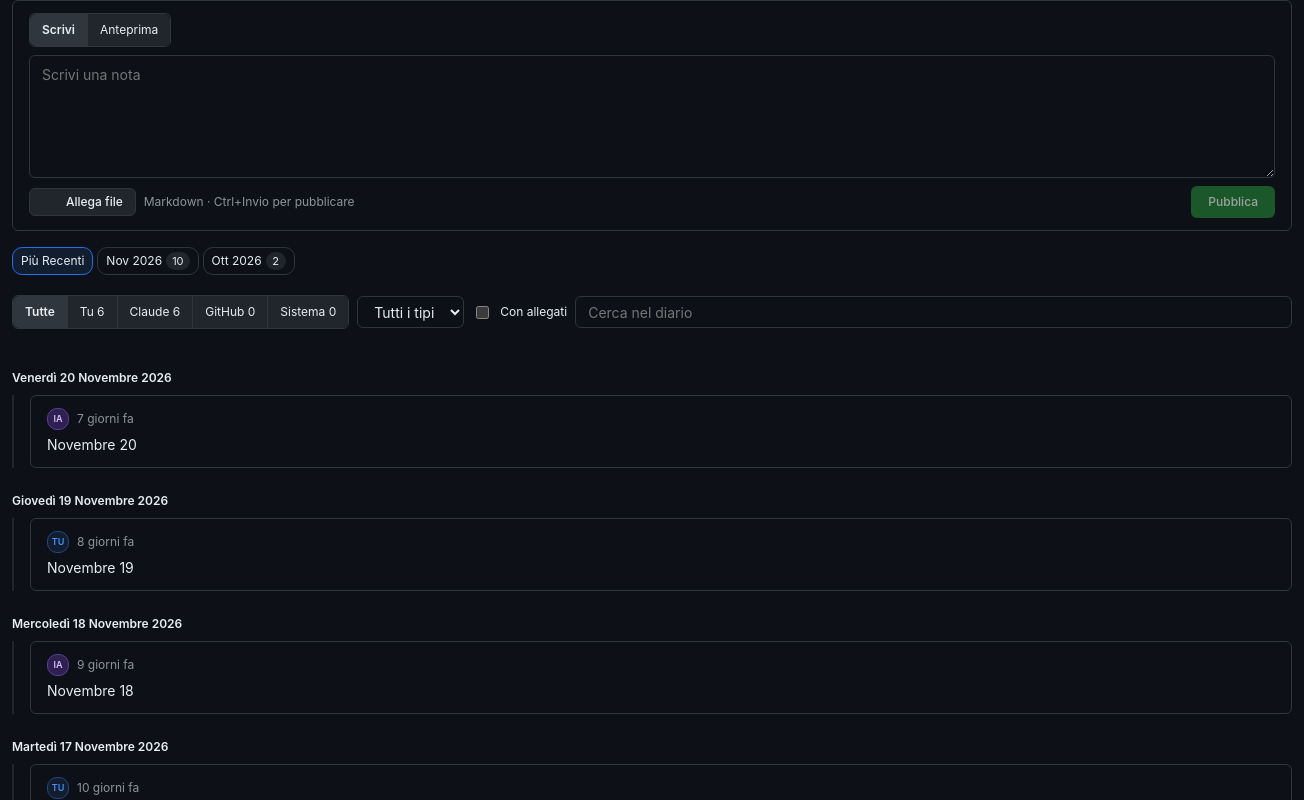
verifyC: long diary › the text search shows matches that are in days that started closed
This screenshot has width=1304, height=800.
Expected: the text "Novembre 20" is shown, [47, 436, 137, 453]
Type "saldatura" into the search field.
click(934, 312); type("saldatura")  # box [575, 296, 1292, 328]
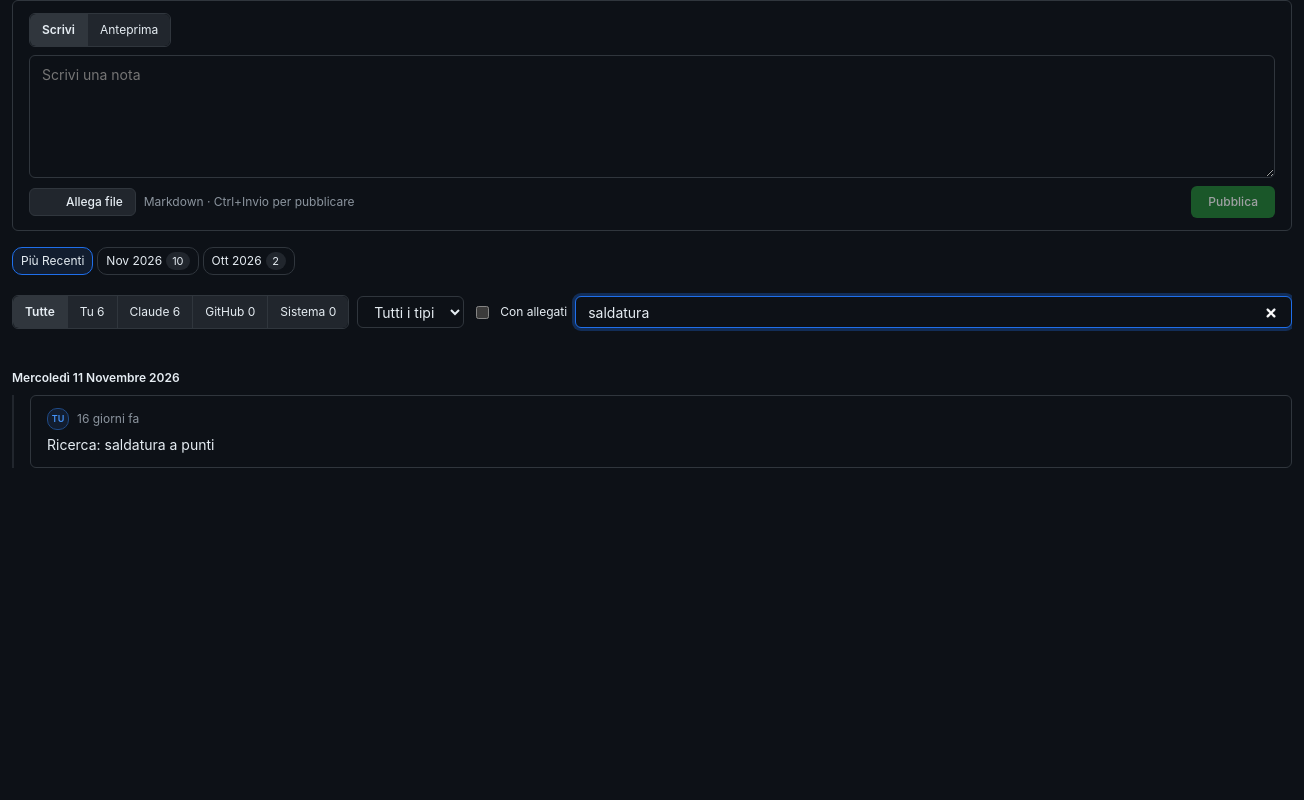
Result: the text "Ricerca: saldatura a punti" is shown at [47, 436, 214, 453]
